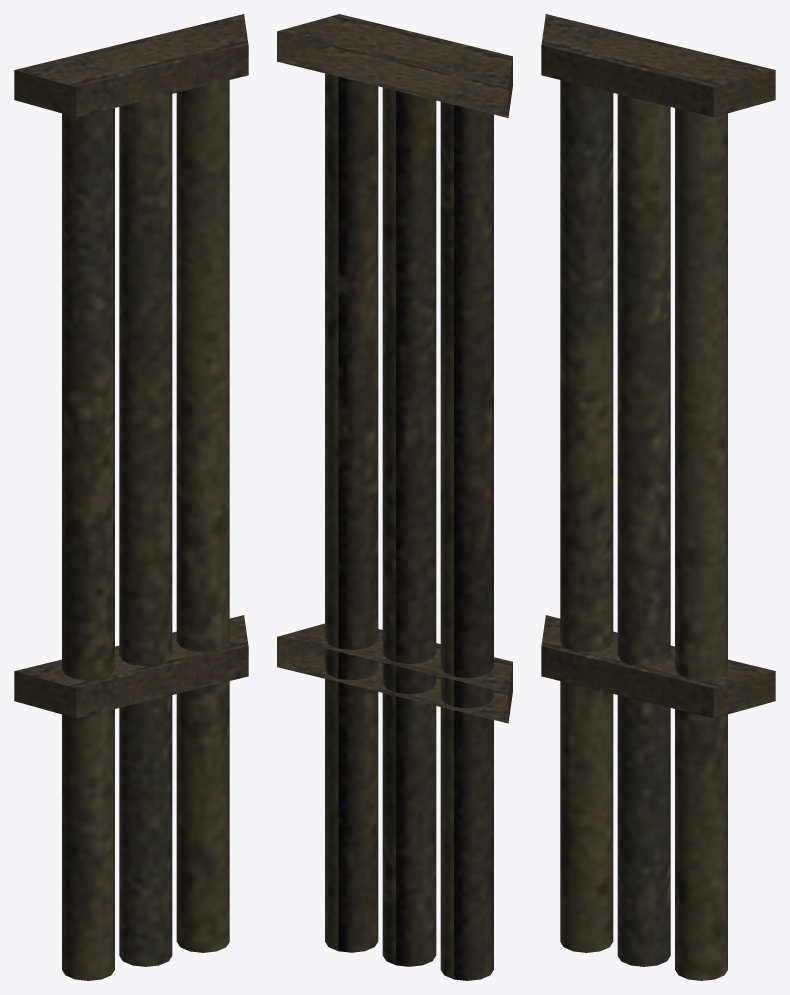
Rendered from pipes_hr_1_vertical_end_2.obj.
The picture shows the model from 3 angles, left to right: view 1: azimuth 30°, elevation 25°; view 2: azimuth 150°, elevation 25°; view 3: azimuth 330°, elevation 25°; orthographic projection.
Parts seen in each view (by area): view 1: pipes_hr_1_vertical_end_2; view 2: pipes_hr_1_vertical_end_2; view 3: pipes_hr_1_vertical_end_2.
Boxes of the visible parts, bbox=[...] form: pipes_hr_1_vertical_end_2: bbox=[14, 14, 248, 980]; pipes_hr_1_vertical_end_2: bbox=[277, 14, 512, 980]; pipes_hr_1_vertical_end_2: bbox=[541, 14, 775, 980].
Bounding box in the file's own units: 0.4 × 1.5 × 0.1.
